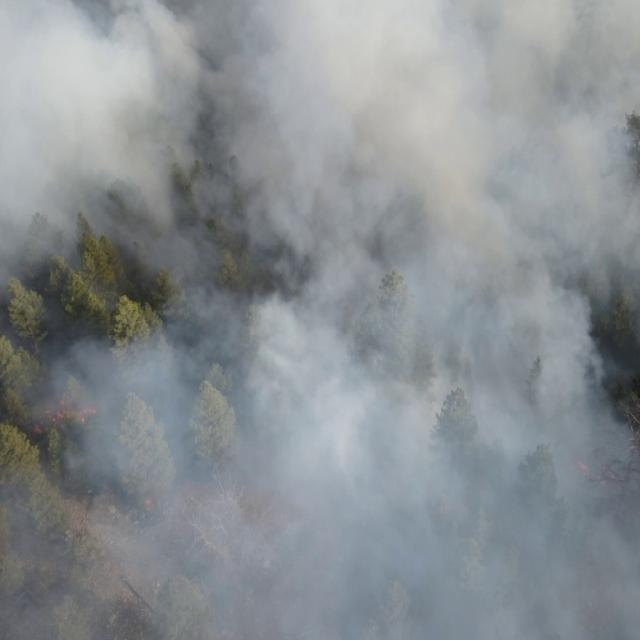fire: (32, 392, 98, 432), (573, 458, 624, 489), (144, 500, 158, 511)
smoke: (0, 0, 640, 640)
